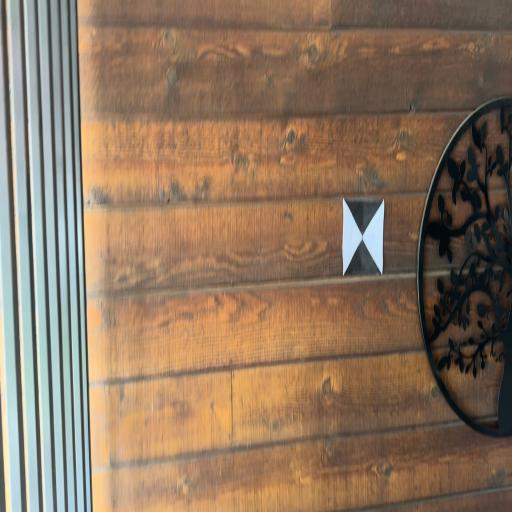target: (343, 197, 384, 276)
